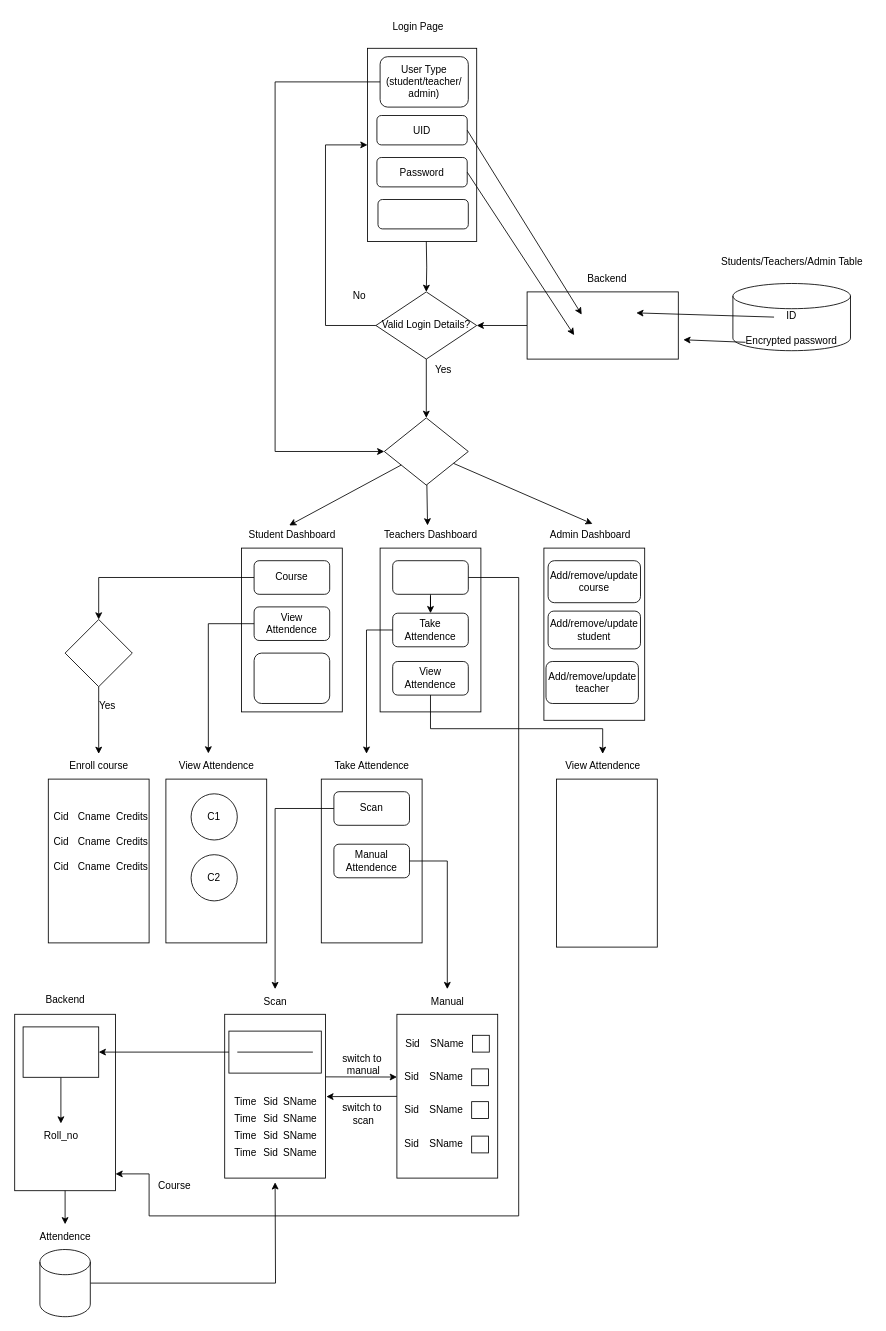
This 886x1331 diagram has some shape labels left out. The shapes that lost their labels are listed below. From the top down, each one's centre as x and y in pixels, then its label:
At [422,214]: "Login".
At [602,325]: "Id == Id password == decript(password)".
At [425,451]: "User type".
At [430,577]: "Select Course".
At [98,653]: "date < deadline ?".
At [291,678]: "Weekly/Monthly Attendance analysis".
At [606,862]: "Course Attendance Analysis Report Statistics ML suggestions".
At [60,1051]: "qr scanner library".
